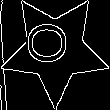O_E: (31, 28, 79, 71)
